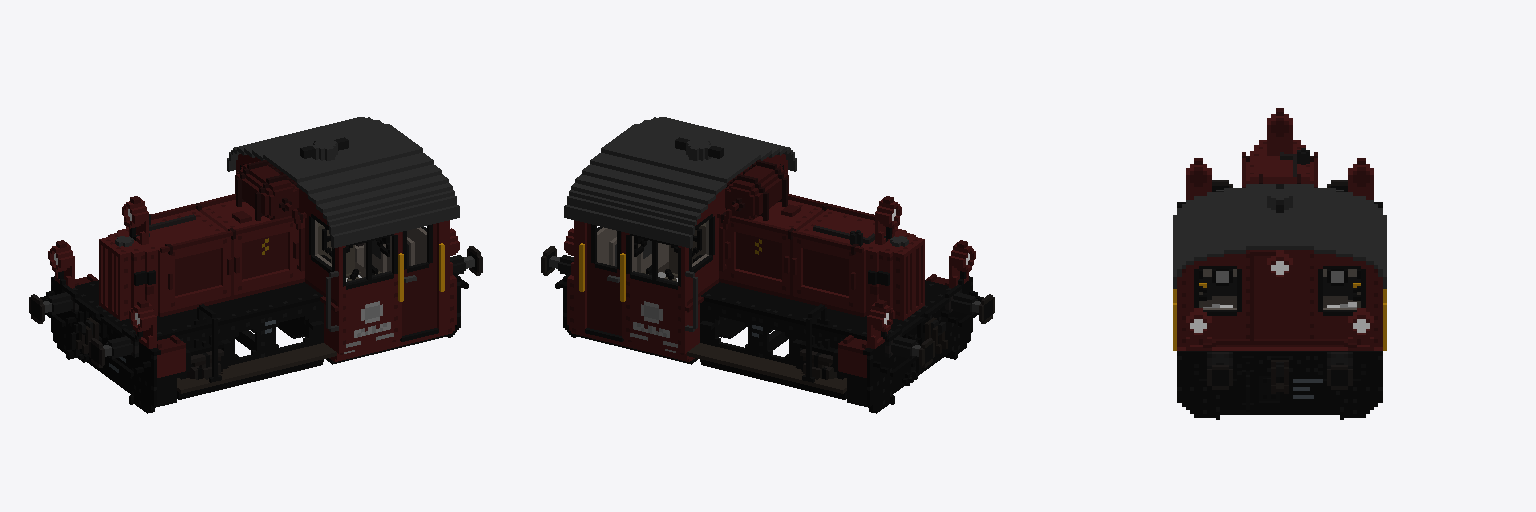
The picture shows the model from 3 angles: view 1: azimuth 30°, elevation 25°; view 2: azimuth 150°, elevation 25°; view 3: azimuth 270°, elevation 25°; orthographic projection.
Visible parts, largest first — view 1: FRAME; view 2: FRAME; view 3: FRAME.
Boxes of the visible parts, <box> form: FRAME: <box>29,117,482,413</box>; FRAME: <box>541,117,994,413</box>; FRAME: <box>1173,108,1386,419</box>.
Size of the model in its own units: 6.44 by 3.06 by 3.12.
Materials: 2 (1 with a texture image).